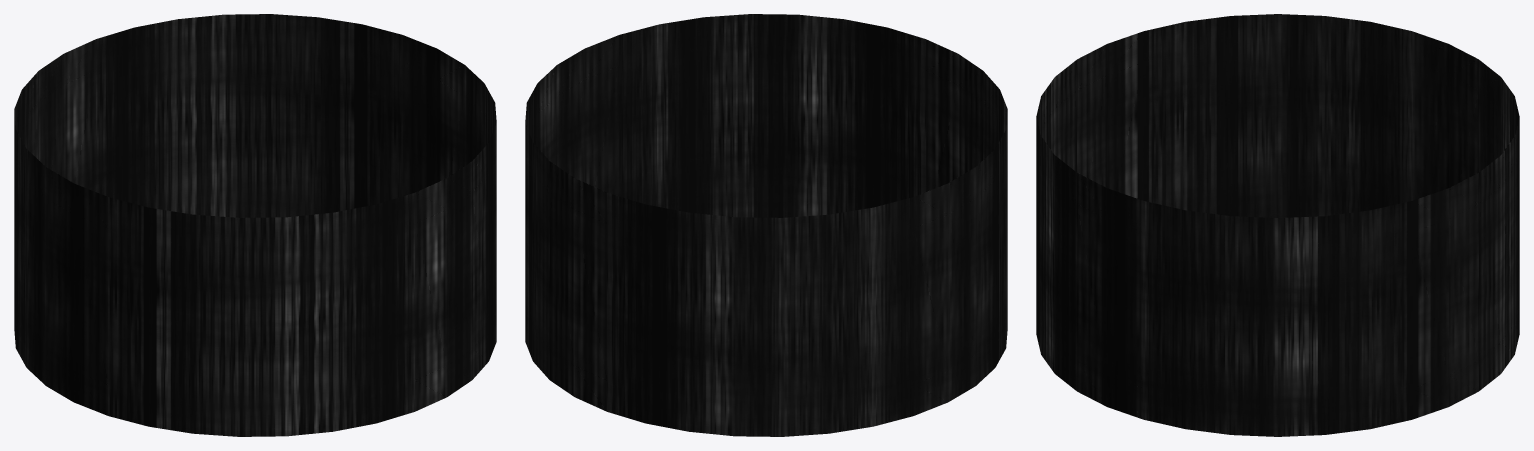
Rendered from Anisotropic Sky Ring.fbx.
3 renders of one model, left to right at view 1: azimuth 30°, elevation 25°; view 2: azimuth 150°, elevation 25°; view 3: azimuth 270°, elevation 25°, orthographic.
Parts seen in each view (by area): view 1: Anistropic Sky Ring; view 2: Anistropic Sky Ring; view 3: Anistropic Sky Ring.
Part boxes in pixels (box(x1,y1,x2,y2)): Anistropic Sky Ring: box(14, 14, 496, 436); Anistropic Sky Ring: box(525, 14, 1007, 436); Anistropic Sky Ring: box(1036, 14, 1519, 436).
Bounding box in the file's own units: 200 × 100 × 200.
